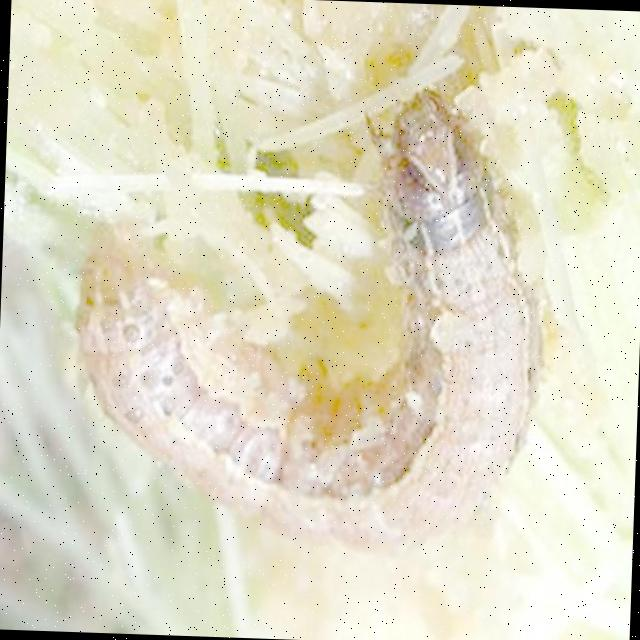worm: (66, 79, 555, 565)
